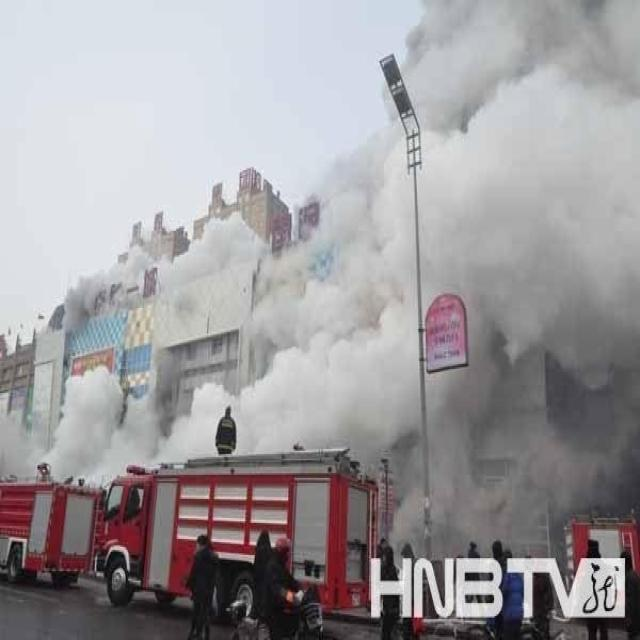Smoke: (37, 1, 640, 562)
